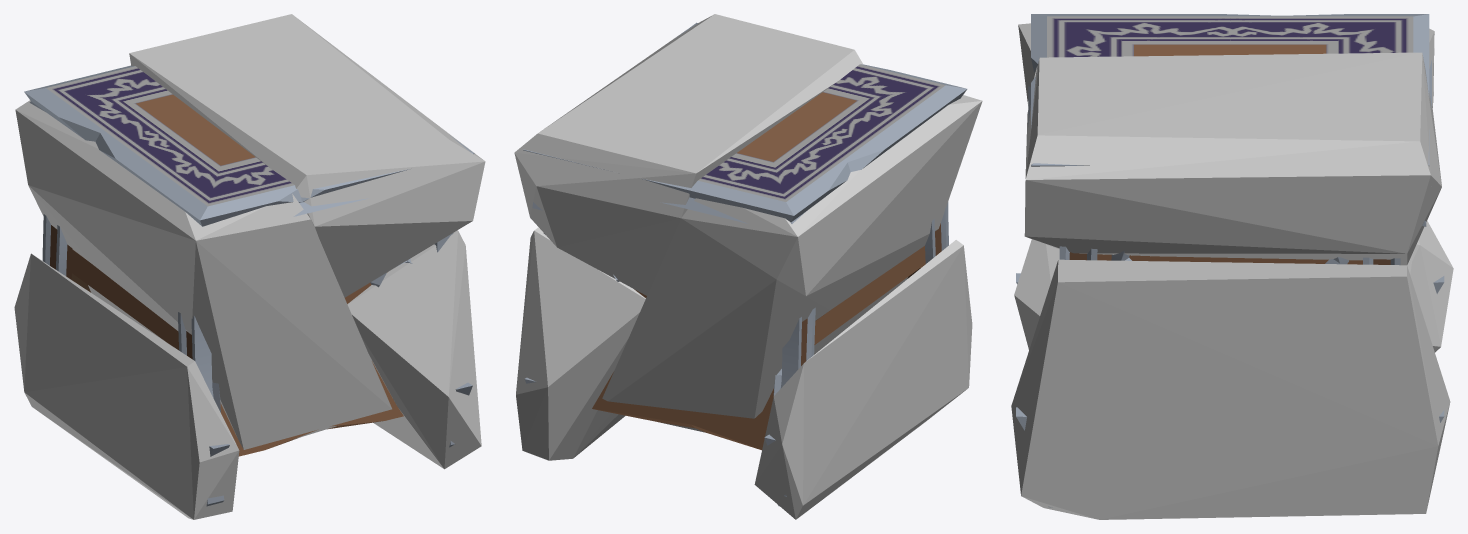
File: SM_Prop_Bedside_Table_01.fbx
3 views of the same model, side by side, from view 1: azimuth 30°, elevation 25°; view 2: azimuth 150°, elevation 25°; view 3: azimuth 270°, elevation 25° (orthographic). The views are drawn at different scales.
Parts seen in each view (by area): view 1: SM_Prop_Bedside_Table_01_ConvexHulls, SM_Prop_Bedside_Table_01; view 2: SM_Prop_Bedside_Table_01_ConvexHulls, SM_Prop_Bedside_Table_01; view 3: SM_Prop_Bedside_Table_01_ConvexHulls, SM_Prop_Bedside_Table_01.
Boxes of the visible parts, x1,y1,x2,y2 form: SM_Prop_Bedside_Table_01_ConvexHulls: (14, 14, 485, 519); SM_Prop_Bedside_Table_01: (24, 65, 474, 506); SM_Prop_Bedside_Table_01_ConvexHulls: (514, 14, 982, 519); SM_Prop_Bedside_Table_01: (523, 22, 967, 506); SM_Prop_Bedside_Table_01_ConvexHulls: (1011, 23, 1453, 519); SM_Prop_Bedside_Table_01: (1016, 14, 1444, 507).
Size of the model in its own units: 78.31 by 90.46 by 86.31.
2 materials, 1 textured.
